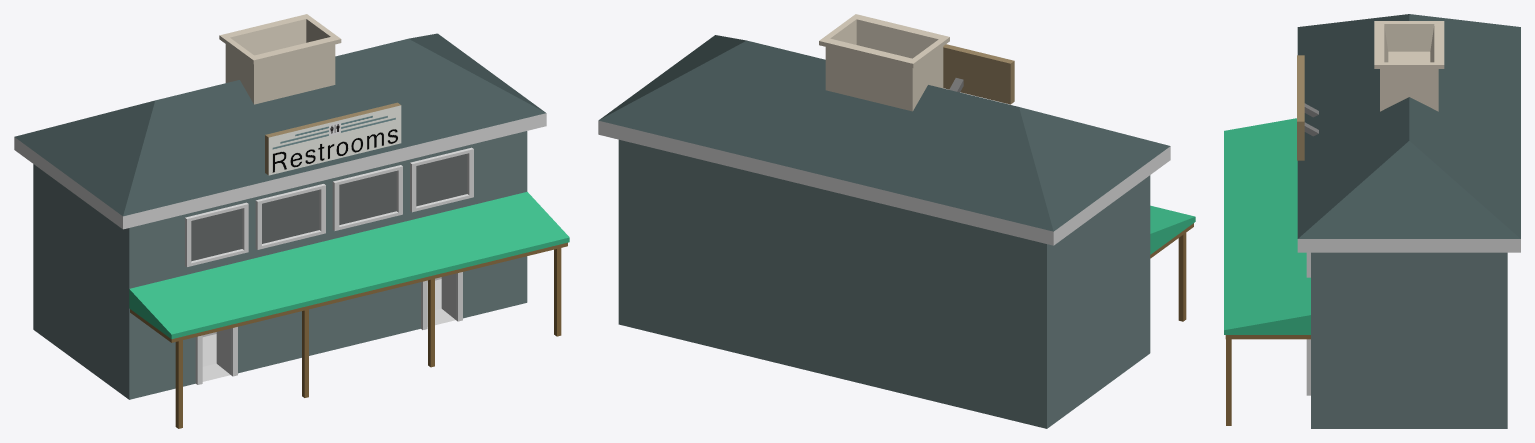
Rendered from BathroomBuilding.FBX.
The picture shows the model from 3 angles, left to right: view 1: azimuth 30°, elevation 25°; view 2: azimuth 150°, elevation 25°; view 3: azimuth 270°, elevation 25°; orthographic projection. The views are drawn at different scales.
Parts seen in each view (by area): view 1: Box001; view 2: Box001; view 3: Box001.
Part boxes in pixels (x1,y1,x2,y2): Box001: (14,14,569,428); Box001: (598,14,1195,428); Box001: (1224,14,1520,428).
Size of the model in its own units: 122 by 76.85 by 72.05.
Materials: 1 (1 with a texture image).
